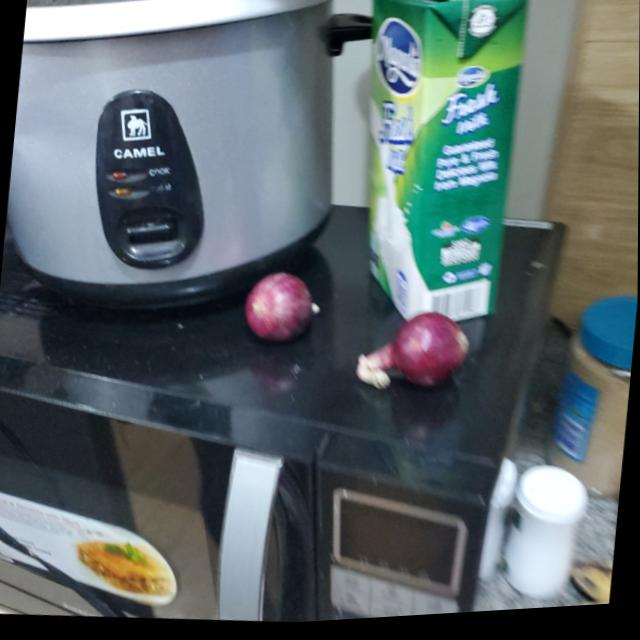milk: (339, 0, 530, 334)
onion: (355, 306, 475, 399), (243, 268, 323, 344)
